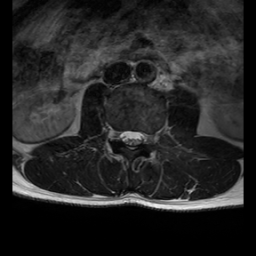CCS_normal: (128, 121, 136, 154)
LFS_normal: (144, 123, 152, 150)
LLS_normal: (136, 123, 144, 150)
RFS_normal: (112, 121, 120, 146)
RLS_normal: (120, 121, 128, 147)
